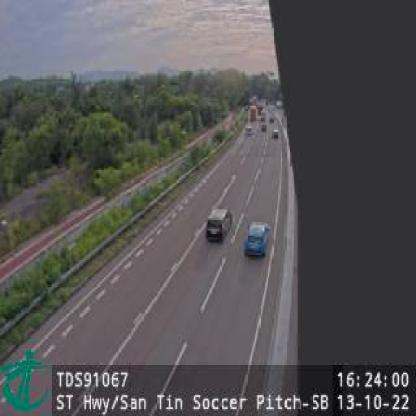Car: (242, 221, 270, 259), (206, 207, 231, 243), (244, 124, 254, 137), (272, 129, 280, 140)
